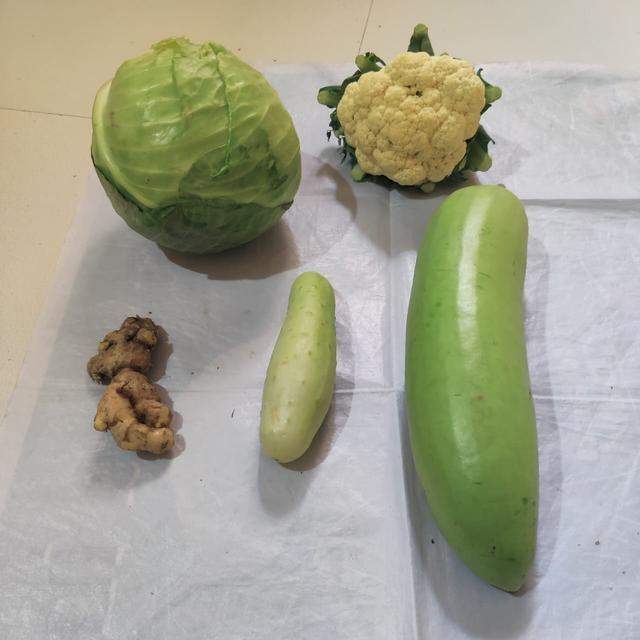Organik: (404, 181, 540, 596), (90, 31, 302, 257), (320, 30, 494, 189), (263, 273, 338, 467), (90, 316, 182, 456)
